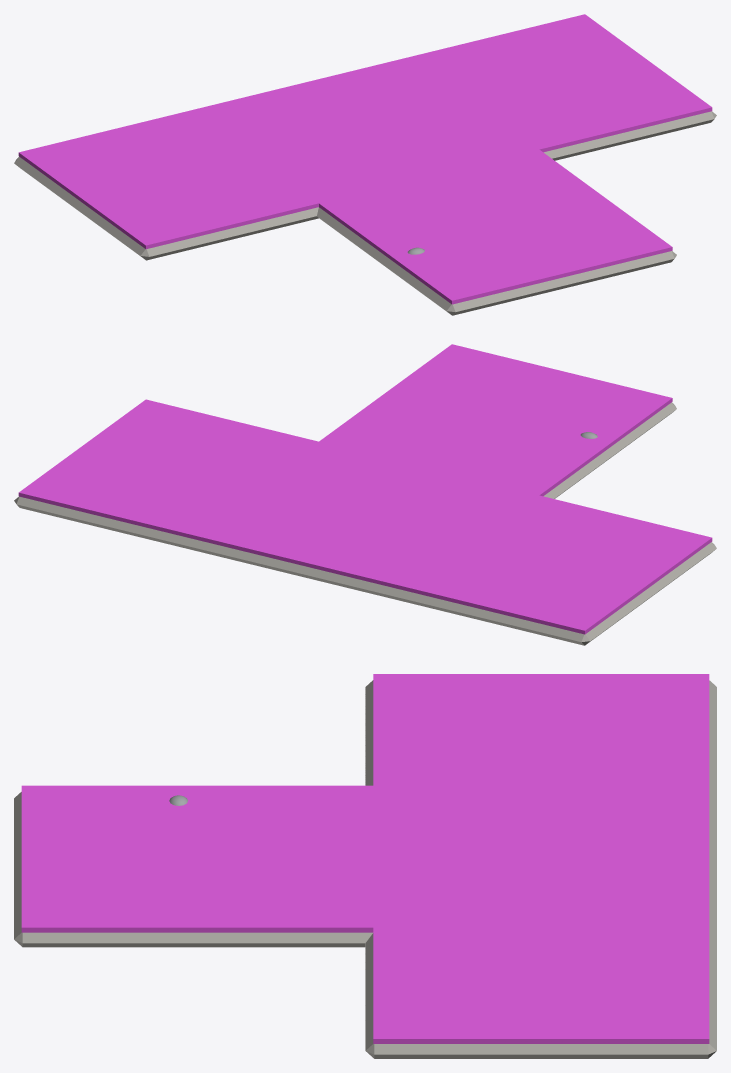
3 views of the same model, one above another, from view 1: azimuth 30°, elevation 25°; view 2: azimuth 150°, elevation 25°; view 3: azimuth 270°, elevation 25° (orthographic). The views are drawn at different scales.
Parts seen in each view (by area): view 1: NAV_MASK_FOREST_PATH_GRAVEL_T_BAR, NAV_MASK_FOREST_PATH_GRAVEL_T_STEM, LOD2_FOREST_PATH_GRAVEL_T_Bar, LOD2_FOREST_PATH_GRAVEL_T_Stem; view 2: NAV_MASK_FOREST_PATH_GRAVEL_T_BAR, NAV_MASK_FOREST_PATH_GRAVEL_T_STEM, LOD2_FOREST_PATH_GRAVEL_T_Bar, LOD2_FOREST_PATH_GRAVEL_T_Stem; view 3: NAV_MASK_FOREST_PATH_GRAVEL_T_BAR, NAV_MASK_FOREST_PATH_GRAVEL_T_STEM, LOD2_FOREST_PATH_GRAVEL_T_Bar, LOD2_FOREST_PATH_GRAVEL_T_Stem.
Part boxes in pixels (box(x1,y1,x2,y2)): NAV_MASK_FOREST_PATH_GRAVEL_T_BAR: box(18, 14, 712, 249); NAV_MASK_FOREST_PATH_GRAVEL_T_STEM: box(259, 111, 672, 304); LOD2_FOREST_PATH_GRAVEL_T_Bar: box(14, 111, 716, 260); LOD2_FOREST_PATH_GRAVEL_T_Stem: box(317, 207, 676, 315); NAV_MASK_FOREST_PATH_GRAVEL_T_BAR: box(18, 399, 712, 634); NAV_MASK_FOREST_PATH_GRAVEL_T_STEM: box(319, 344, 672, 536); LOD2_FOREST_PATH_GRAVEL_T_Bar: box(14, 496, 716, 645); LOD2_FOREST_PATH_GRAVEL_T_Stem: box(543, 402, 676, 498); NAV_MASK_FOREST_PATH_GRAVEL_T_BAR: box(373, 674, 709, 1043); NAV_MASK_FOREST_PATH_GRAVEL_T_STEM: box(21, 785, 533, 932); LOD2_FOREST_PATH_GRAVEL_T_Bar: box(365, 680, 716, 1058); LOD2_FOREST_PATH_GRAVEL_T_Stem: box(14, 792, 372, 947).
Size of what is drawn, in the model's own units: 8 by 0.24 by 6.4.
